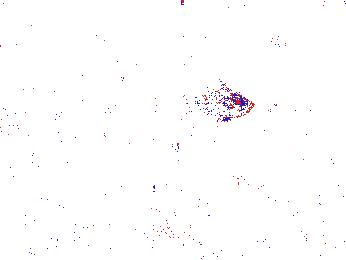X-ray fish: (187, 89, 257, 121)
red belly glassfish: (267, 33, 306, 55)
